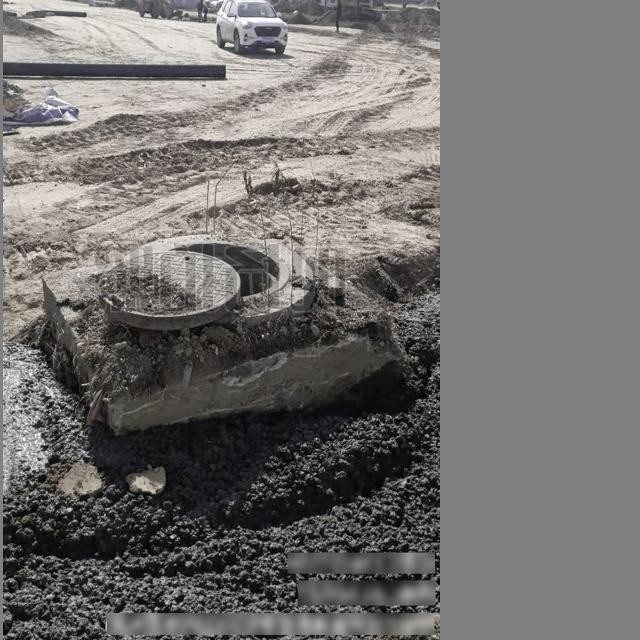uncovered: (99, 233, 317, 331)
